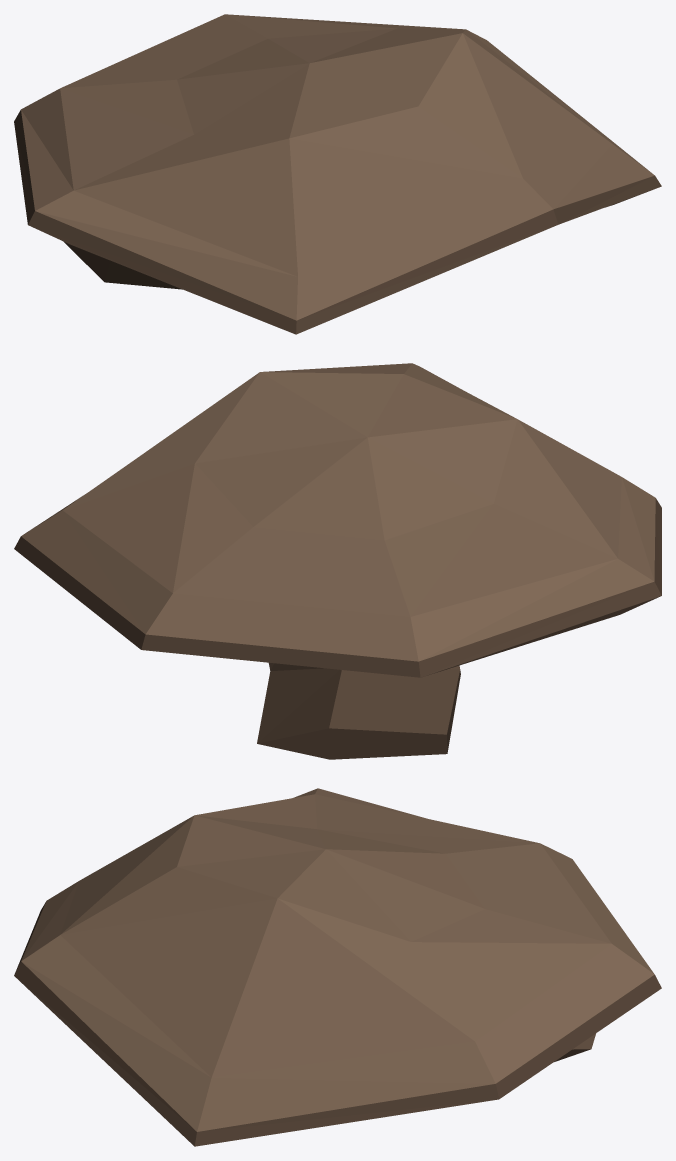
Rendered from SM_Clinging_Mushroom_01.fbx.
3 views of the same model, one above another, from view 1: azimuth 30°, elevation 25°; view 2: azimuth 150°, elevation 25°; view 3: azimuth 270°, elevation 25° (orthographic). The views are drawn at different scales.
Visible parts, largest first — view 1: SM_Clinging_Mushroom_01; view 2: SM_Clinging_Mushroom_01; view 3: SM_Clinging_Mushroom_01.
Boxes of the visible parts, x1=… form: SM_Clinging_Mushroom_01: x1=14, y1=14, x2=661, y2=334; SM_Clinging_Mushroom_01: x1=14, y1=363, x2=661, y2=759; SM_Clinging_Mushroom_01: x1=14, y1=788, x2=661, y2=1146.
Size of the model in its own units: 166 by 72.79 by 157.
